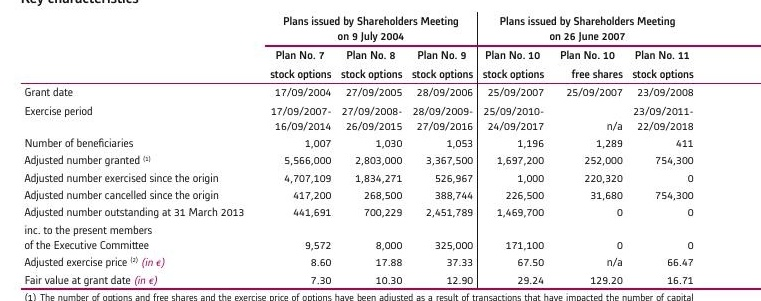table: (0, 0, 761, 301)
